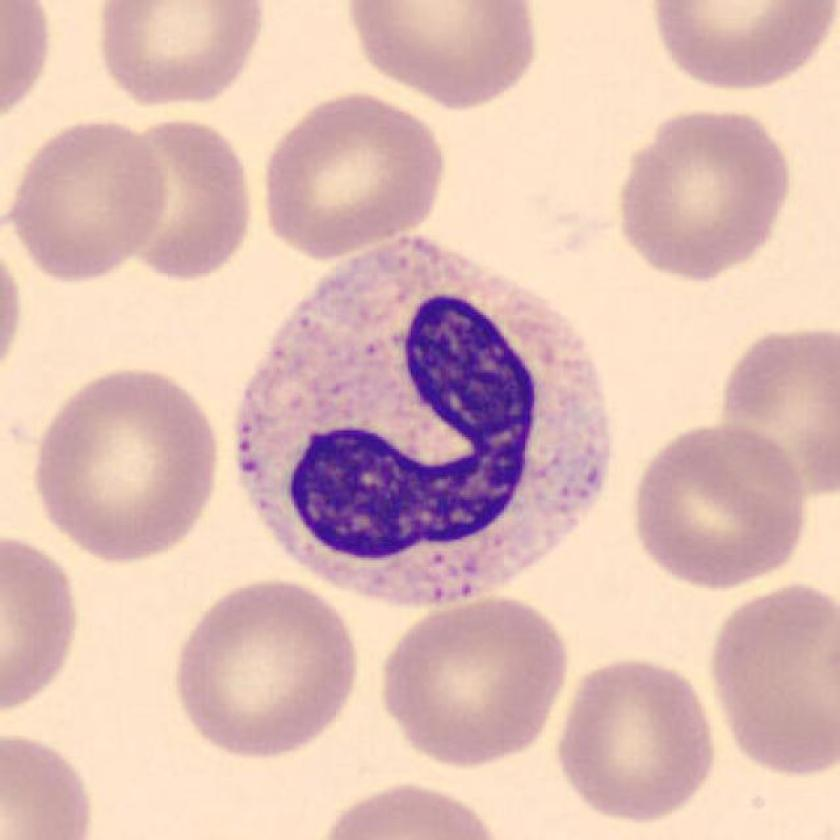neutrophil: (236, 232, 609, 605)
